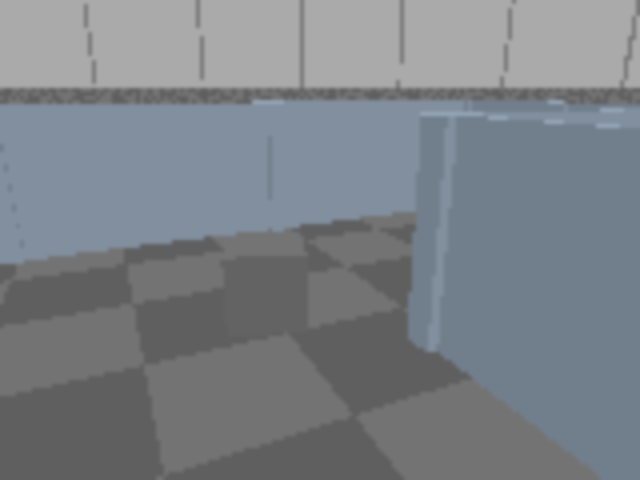obstacle: (221, 233, 307, 337)
